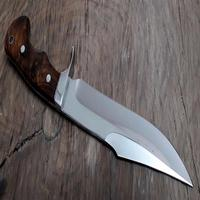knife: (7, 15, 196, 188)
